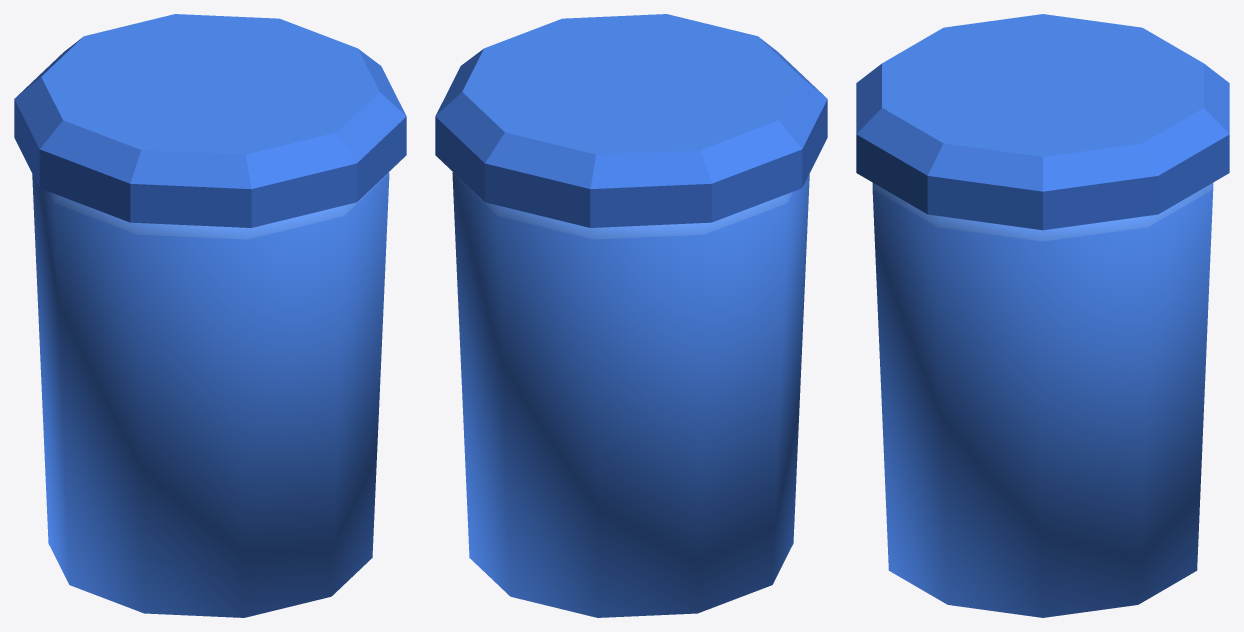
The model's file is Bin.glb.
The picture shows the model from 3 angles, left to right: view 1: azimuth 30°, elevation 25°; view 2: azimuth 150°, elevation 25°; view 3: azimuth 270°, elevation 25°; orthographic projection.
Visible parts, largest first — view 1: Bin; view 2: Bin; view 3: Bin.
Boxes of the visible parts, x1,y1,x2,y2 form: Bin: (14,14,406,617); Bin: (435,14,827,617); Bin: (856,14,1229,617).
Bounding box in the file's own units: 2.3 × 3 × 2.19.
1 material, 1 textured.
